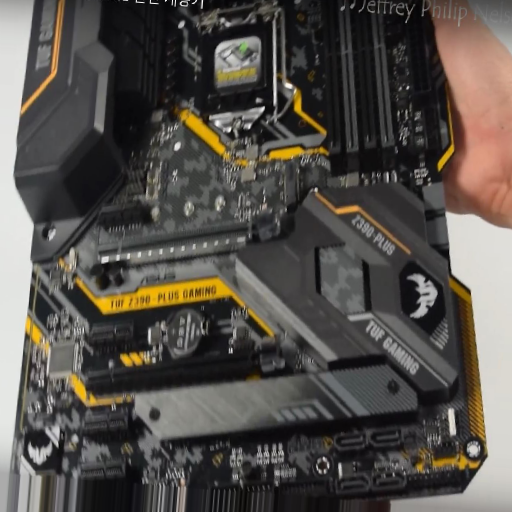CPU: (197, 5, 280, 133)
GPU: (84, 343, 286, 399), (94, 211, 279, 261)
MOTHERBOARD: (23, 1, 483, 490)
RAM: (319, 1, 396, 173)
SSD: (282, 161, 303, 211)
